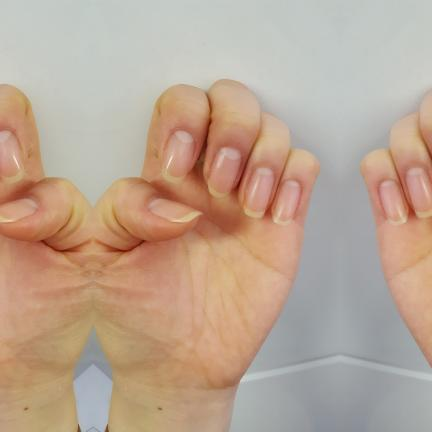Nail: (161, 130, 194, 183), (208, 147, 240, 197), (243, 167, 273, 218), (405, 167, 432, 218), (147, 198, 202, 223), (378, 180, 407, 225), (272, 180, 300, 225), (0, 130, 23, 183), (0, 198, 37, 223)
